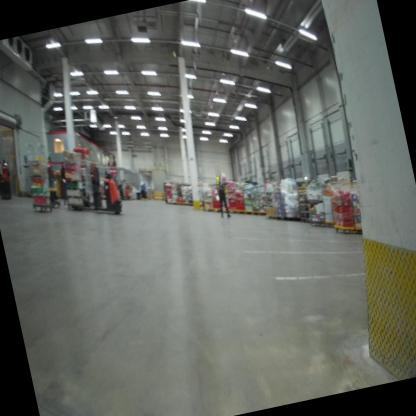pallet_truck: (58, 166, 131, 225)
